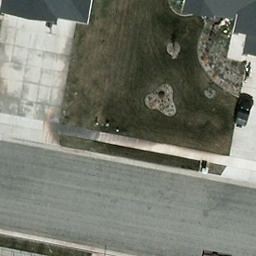car: (235, 94, 254, 129)
